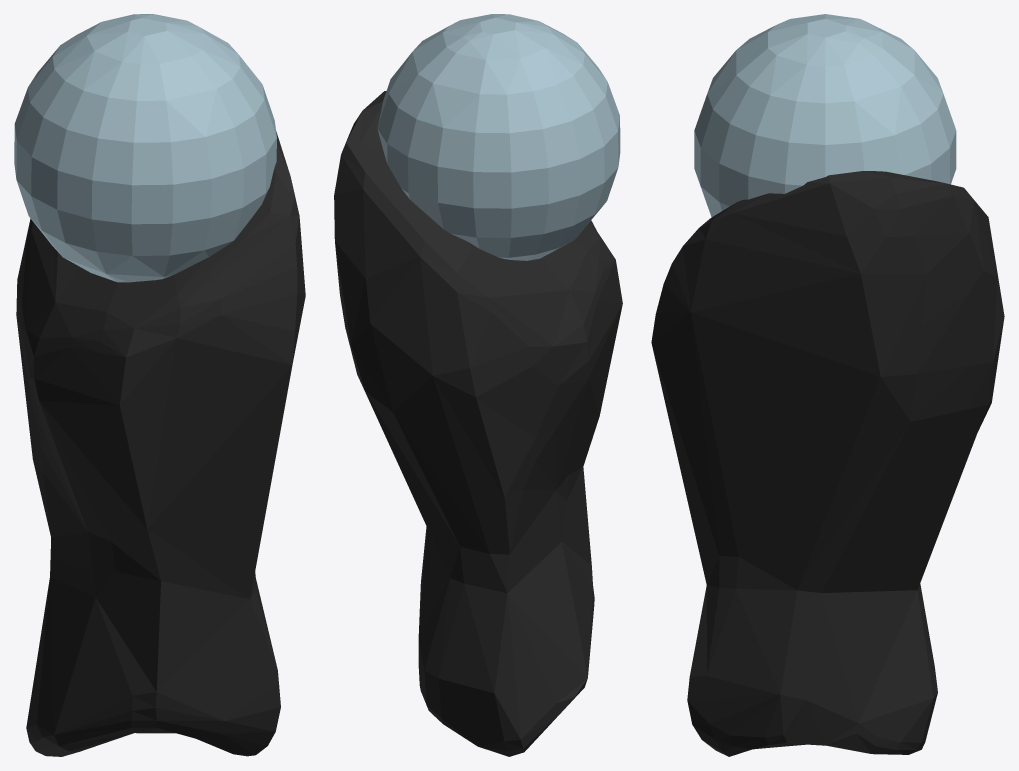
Rendered from piernaD.obj.
3 views of the same model, side by side, from view 1: azimuth 30°, elevation 25°; view 2: azimuth 150°, elevation 25°; view 3: azimuth 270°, elevation 25° (orthographic). The views are drawn at different scales.
Parts seen in each view (by area): view 1: pieD_Alpha_HighJointsGeo.002; view 2: pieD_Alpha_HighJointsGeo.002; view 3: pieD_Alpha_HighJointsGeo.002.
Boxes of the visible parts, left/top/right/bottom form: pieD_Alpha_HighJointsGeo.002: left=14, top=14, right=305, bottom=756; pieD_Alpha_HighJointsGeo.002: left=334, top=14, right=622, bottom=756; pieD_Alpha_HighJointsGeo.002: left=651, top=14, right=1004, bottom=756.
Bounding box in the file's own units: 2.22 × 6.1 × 2.64.
